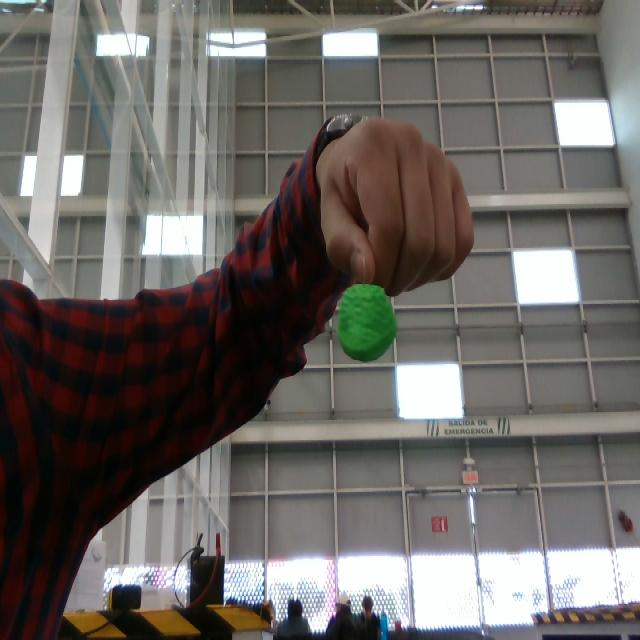verde: (333, 282, 398, 363)
